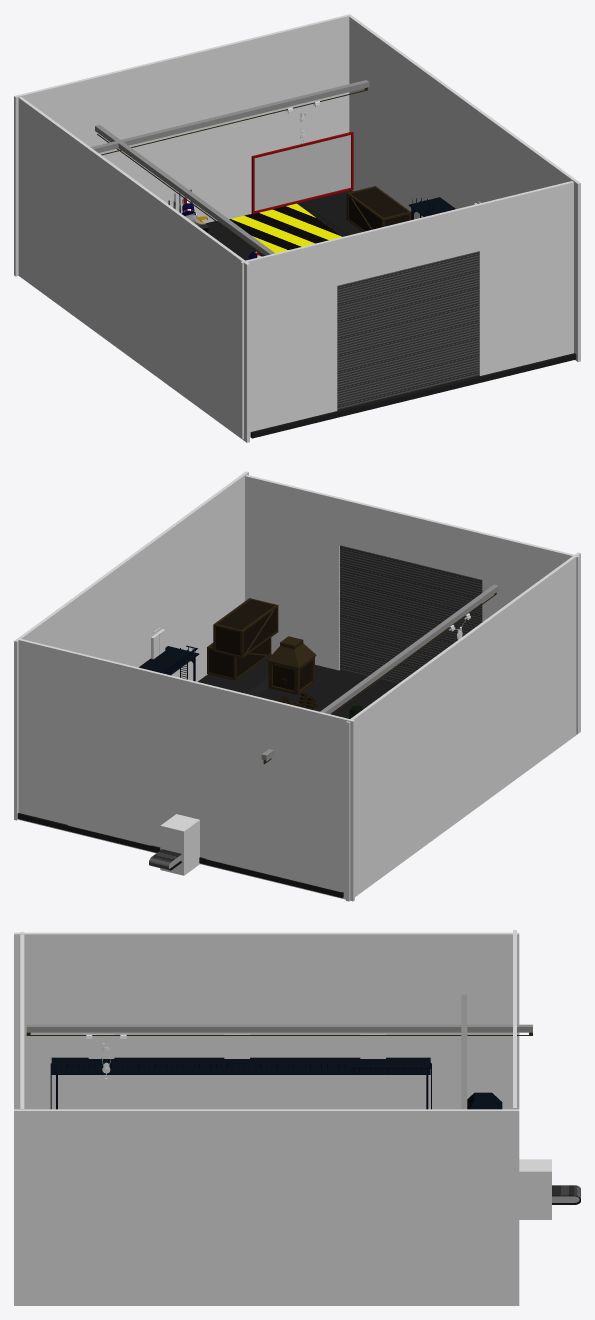
File: Hangar Final (1).FBX
The picture shows the model from 3 angles, top to bottom: view 1: azimuth 30°, elevation 25°; view 2: azimuth 150°, elevation 25°; view 3: azimuth 270°, elevation 25°; orthographic projection. The views are drawn at different scales.
Visible parts, largest first — view 1: Pared Choose, Pared Exit, Pared Options, Pared Credits, Plane006, Box627, Box478, Plane001, Box542, Box547, Box486; view 2: Pared Options, Pared Choose, Pared Exit, Pared Credits, Plane006, Box478, Box487, Box547, Box454, Box628, Box555; view 3: Pared Credits, Pared Choose, Box002, Box547, Pared Options, Pared Exit, Box542, Rectangle002, Box488.
Boxes of the visible parts, x1,y1,x2,y2 form: Pared Choose: (18,97,249,442); Pared Exit: (240,181,573,439); Pared Options: (14,14,349,276); Pared Credits: (348,14,580,361); Plane006: (337,251,479,409); Box627: (251,131,353,213); Box478: (205,190,576,438); Plane001: (229,203,341,253); Box542: (91,80,369,155); Box547: (95,124,274,256); Box486: (346,186,411,231); Pared Options: (18,639,354,901); Pared Choose: (346,552,580,901); Pared Exit: (245,475,579,733); Pared Credits: (14,471,248,820); Plane006: (340,545,482,683); Box478: (17,654,397,897); Box487: (213,598,278,658); Box547: (261,584,498,764); Box454: (267,636,316,694); Box628: (207,637,271,680); Box555: (139,646,199,675); Pared Credits: (14,1109,519,1305); Pared Choose: (14,932,519,1109); Box002: (51,1057,430,1074); Box547: (26,1024,532,1035); Pared Options: (513,930,551,1219); Pared Exit: (20,932,24,1109); Box542: (461,994,467,1109); Rectangle002: (552,1185,580,1204); Box488: (467,1092,502,1109).
Bounding box in the file's own units: 535 × 272 × 712.
